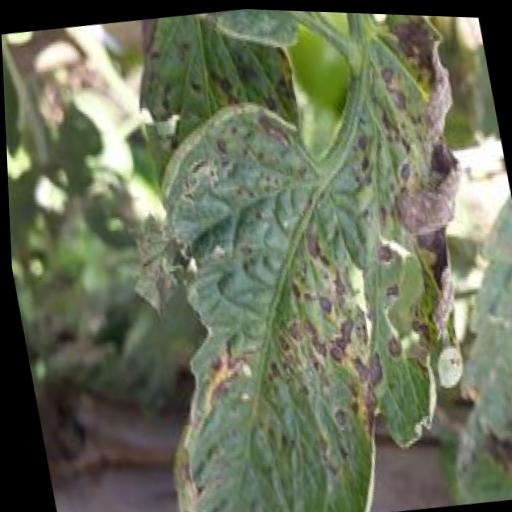Septoria: (84, 2, 512, 512)
